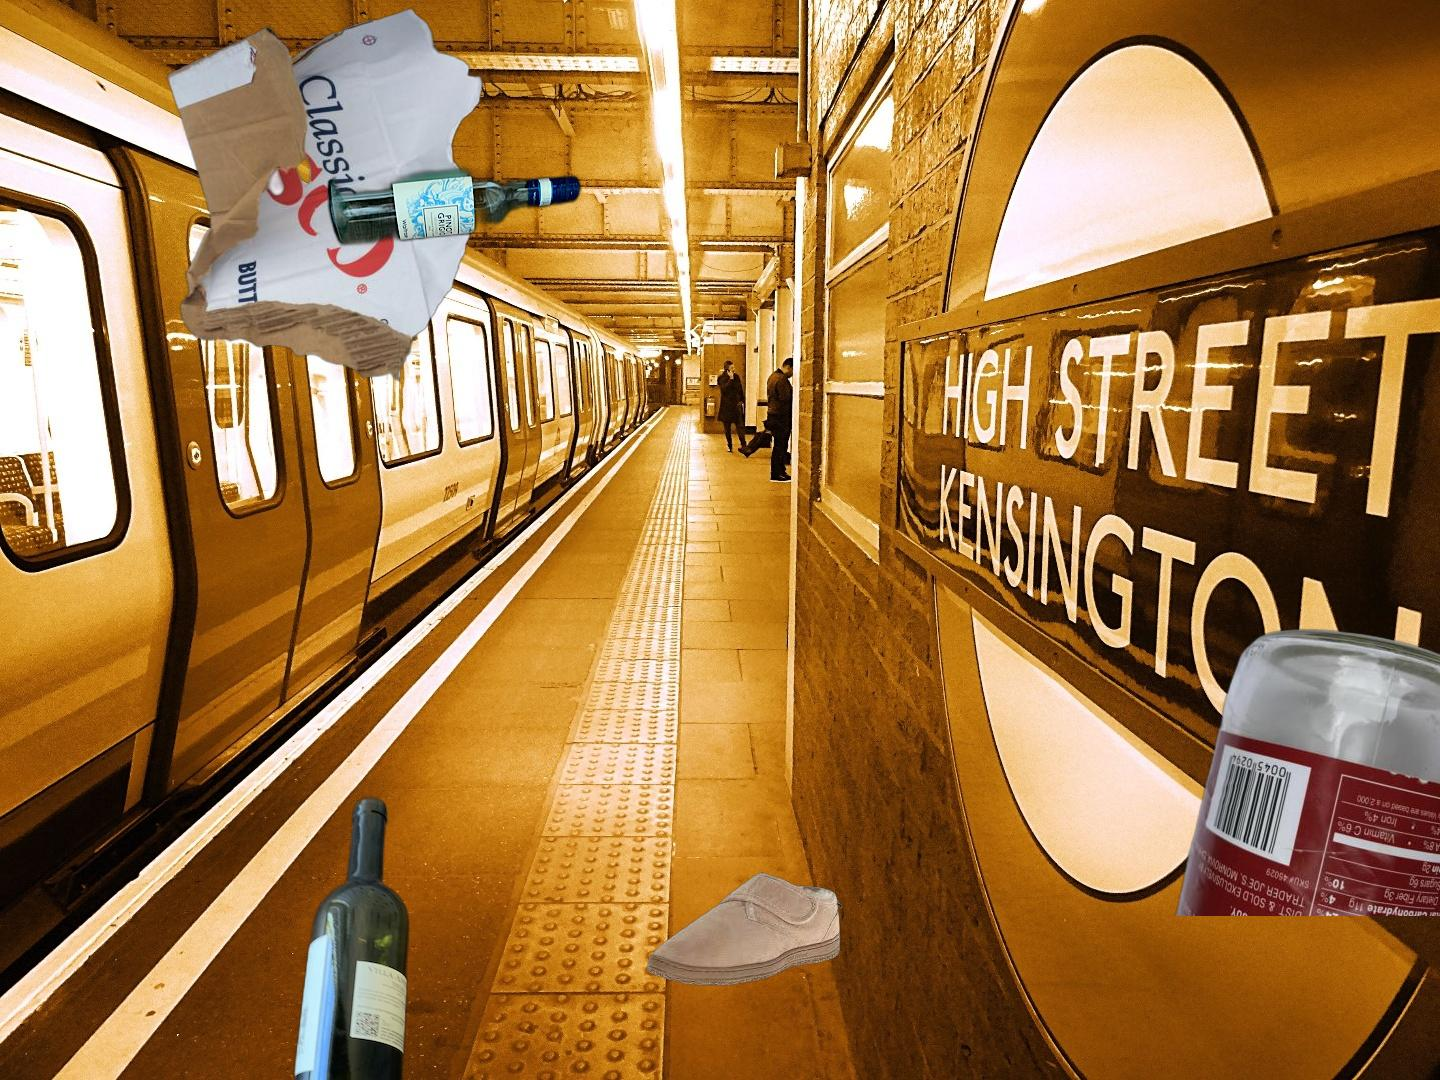glass: (1172, 628, 1440, 916), (283, 792, 414, 1080), (323, 162, 586, 250)
shoes: (644, 870, 845, 988)
trashbox-cardboard: (163, 7, 488, 386)
